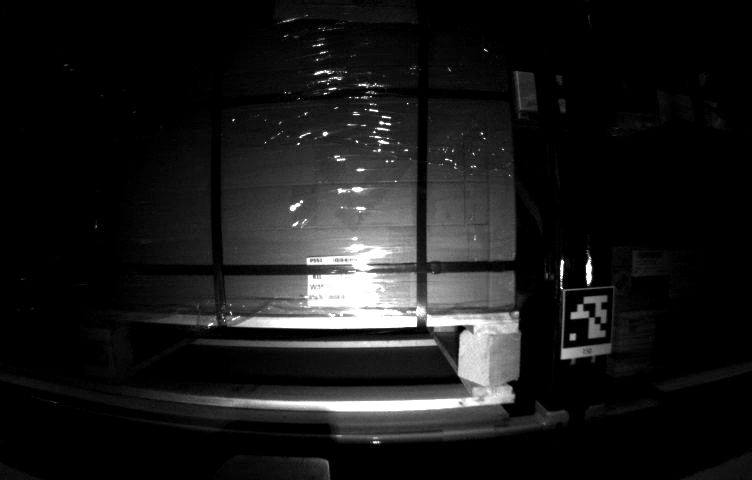True Barcode: (306, 255, 370, 303)
